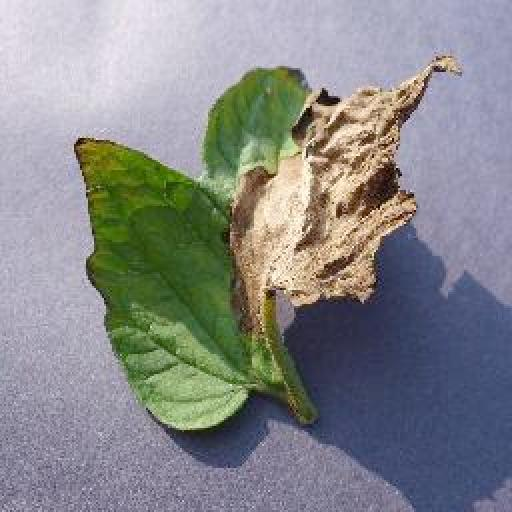disease_tomato: (68, 58, 466, 434)
